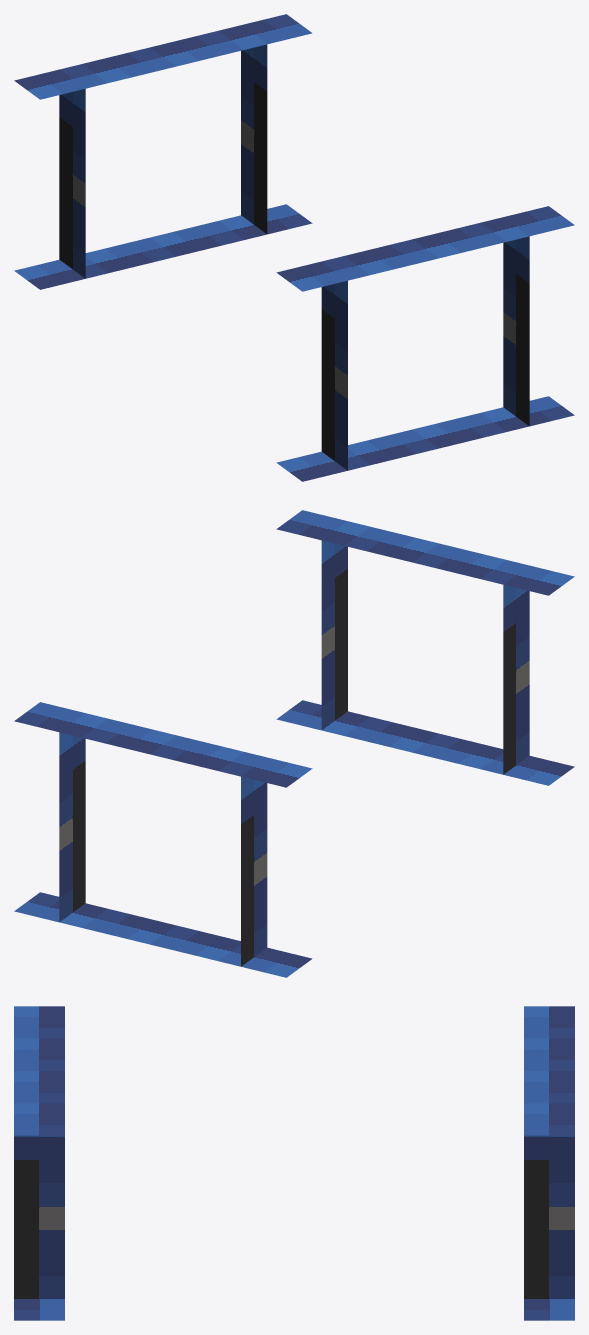
Rendered from inner_winding_rims.obj.
3 views of the same model, one above another, from view 1: azimuth 30°, elevation 25°; view 2: azimuth 150°, elevation 25°; view 3: azimuth 270°, elevation 25° (orthographic). The views are drawn at different scales.
Parts seen in each view (by area): view 1: group_0_inner_winding, group_1_inner_winding; view 2: group_0_inner_winding, group_1_inner_winding; view 3: group_0_inner_winding, group_1_inner_winding.
Part boxes in pixels (x1,y1,x2,y2): group_0_inner_winding: (14,44,574,481); group_1_inner_winding: (14,14,574,291); group_0_inner_winding: (14,540,574,977); group_1_inner_winding: (14,510,574,787); group_0_inner_winding: (14,1135,574,1320); group_1_inner_winding: (14,1006,574,1135).
Size of the model in its own units: 0.75 by 0.5 by 1.38.
